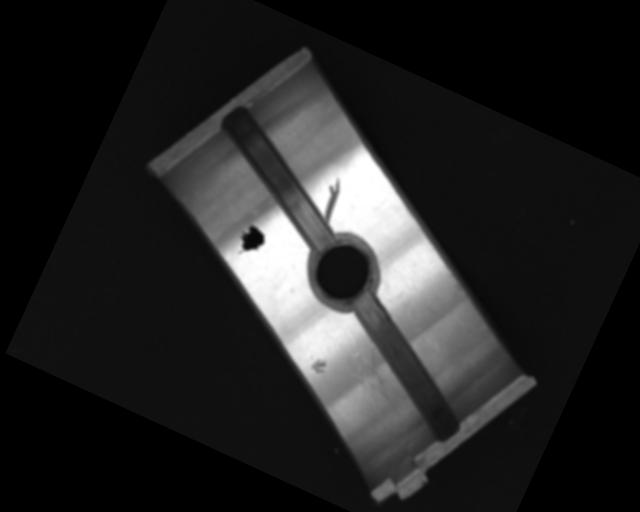blot: (231, 221, 270, 263)
bruise: (304, 353, 329, 377)
gap: (317, 288, 495, 446), (192, 104, 363, 252)
hole: (296, 224, 390, 317)
nick: (315, 175, 348, 223)
scratch: (338, 339, 423, 419)
